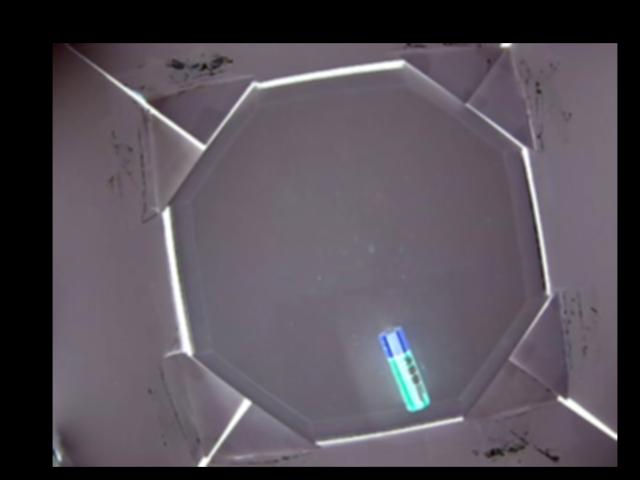Battery: (380, 327, 432, 413)
